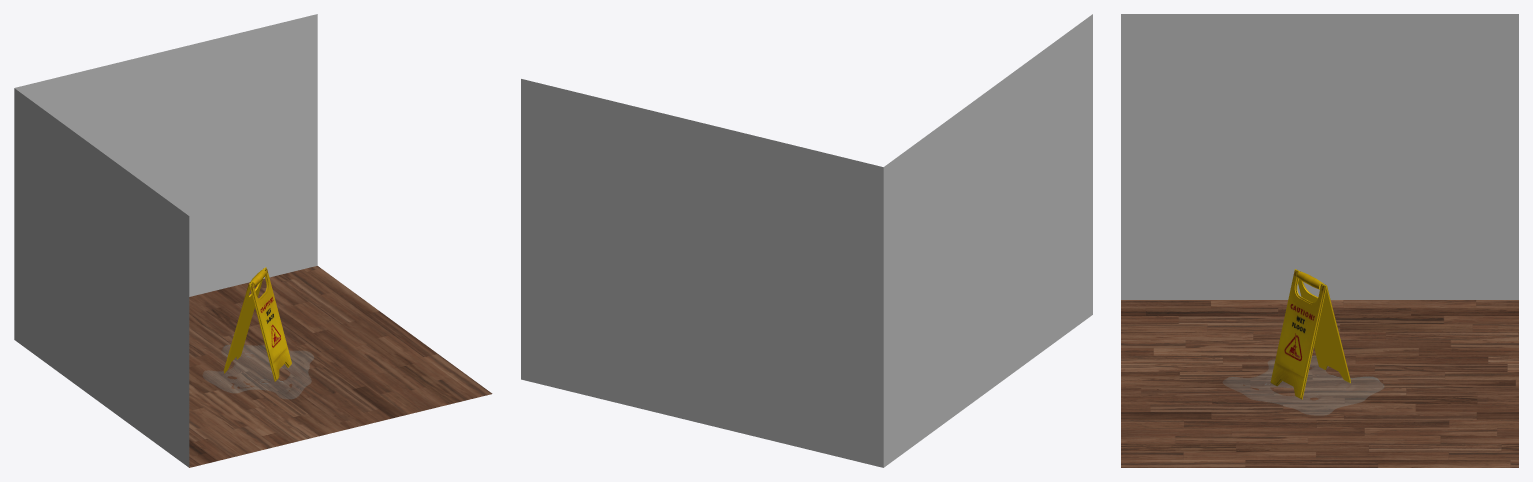
The model's file is Wet floor sign.fbx.
3 renders of one model, left to right at view 1: azimuth 30°, elevation 25°; view 2: azimuth 150°, elevation 25°; view 3: azimuth 270°, elevation 25°, orthographic. The views are drawn at different scales.
Parts seen in each view (by area): view 1: Plane.003, Plane.004, Plane.002, Plane.005, Plane, Plane.001; view 2: Plane.003, Plane.004; view 3: Plane.004, Plane.002, Plane.005, Plane, Plane.001.
Part boxes in pixels (x1,y1,x2,y2): Plane.003: [14, 14, 317, 296]; Plane.004: [14, 88, 189, 467]; Plane.002: [189, 266, 492, 467]; Plane.005: [203, 345, 313, 398]; Plane: [249, 267, 291, 381]; Plane.001: [223, 267, 266, 373]; Plane.003: [521, 79, 883, 467]; Plane.004: [883, 14, 1092, 467]; Plane.004: [1121, 14, 1518, 299]; Plane.002: [1121, 300, 1518, 467]; Plane.005: [1223, 356, 1383, 414]; Plane: [1270, 269, 1326, 399]; Plane.001: [1294, 269, 1350, 383].
Size of the model in its own units: 619 by 510 by 619.
